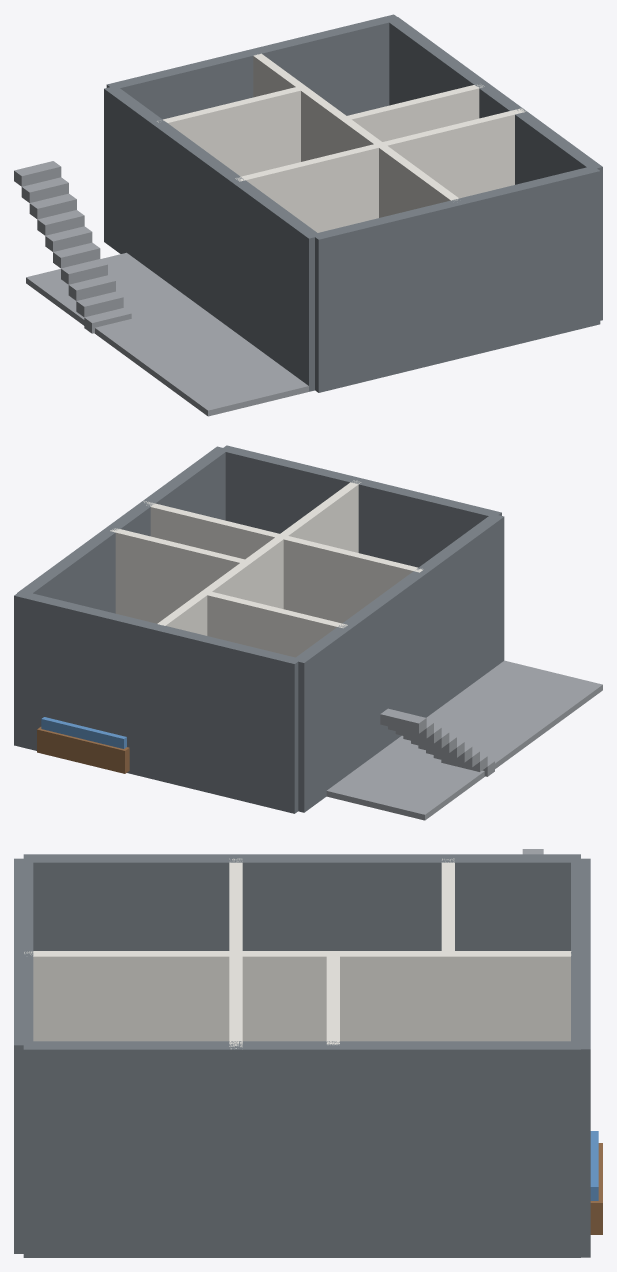
File: 3d_floor_plan.glb
3 views of the same model, one above another, from view 1: azimuth 30°, elevation 25°; view 2: azimuth 150°, elevation 25°; view 3: azimuth 270°, elevation 25° (orthographic). The views are drawn at different scales.
Parts seen in each view (by area): view 1: 3D_Architectural_Floor_Plan; view 2: 3D_Architectural_Floor_Plan; view 3: 3D_Architectural_Floor_Plan.
Boxes of the visible parts, bbox=[...] form: 3D_Architectural_Floor_Plan: bbox=[14, 14, 602, 416]; 3D_Architectural_Floor_Plan: bbox=[14, 445, 602, 820]; 3D_Architectural_Floor_Plan: bbox=[14, 849, 602, 1257].
Bounding box in the file's own units: 7.06 × 2.6 × 6.66.
